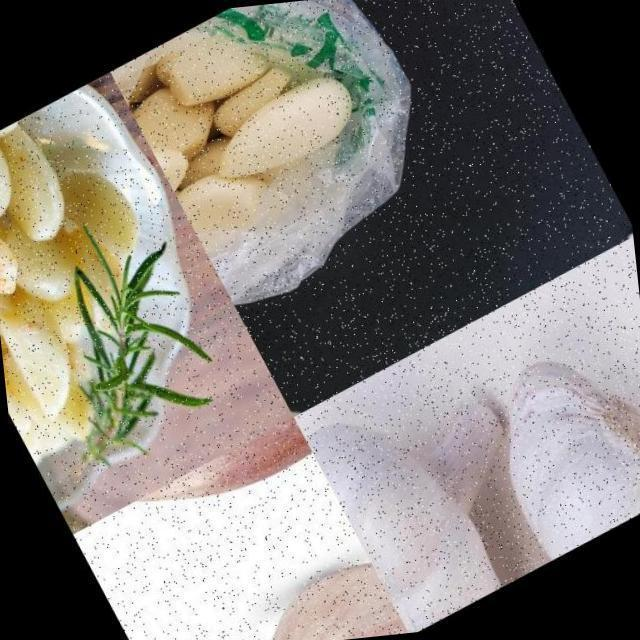garlic: (0, 79, 226, 473), (294, 337, 575, 640), (380, 308, 640, 605), (107, 0, 390, 264), (186, 541, 407, 640)
